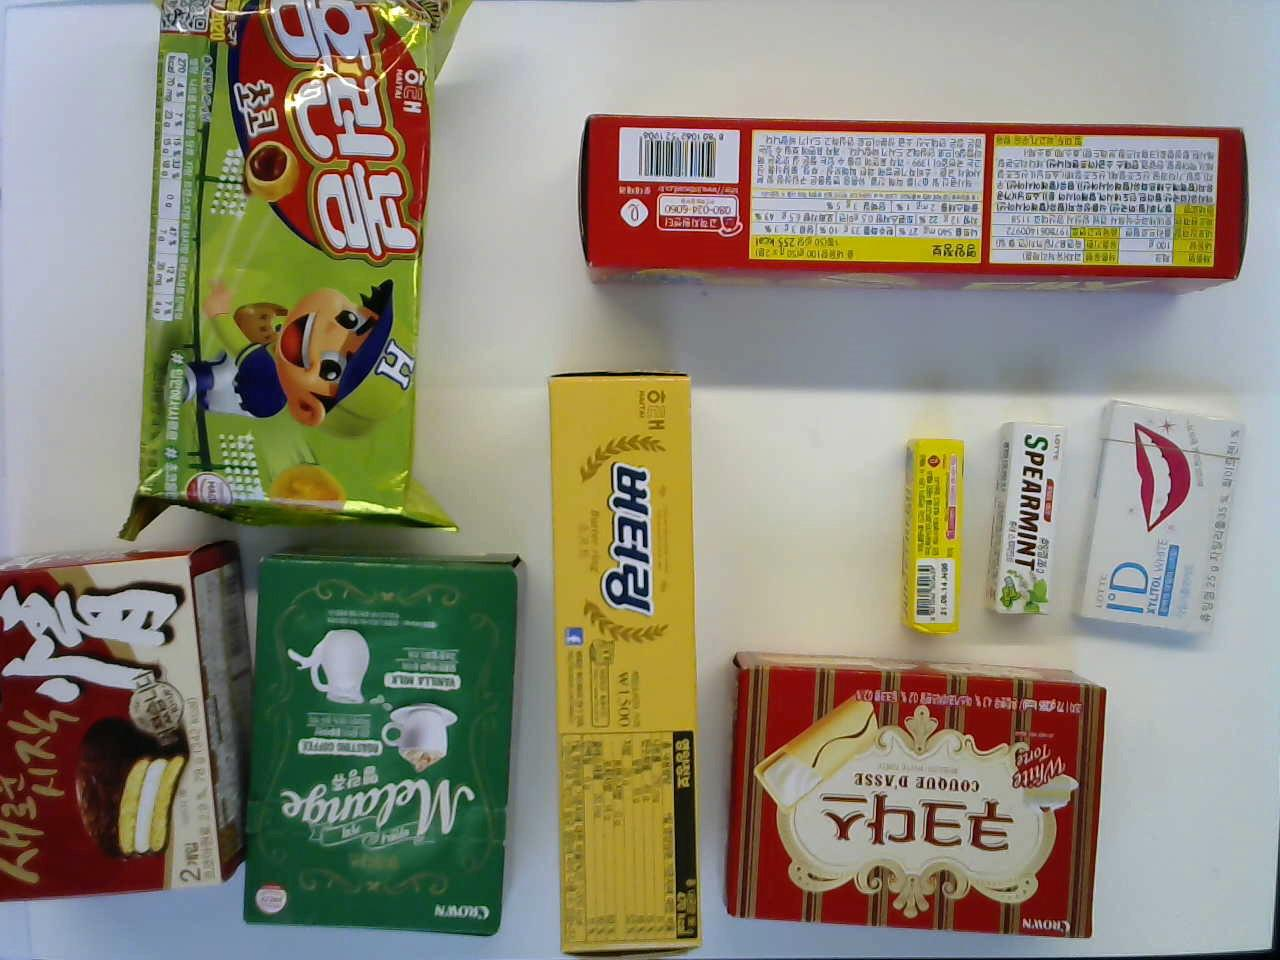ID_gum: (709, 659, 1112, 929), (1072, 396, 1250, 631)
buttering: (549, 365, 701, 951)
chocopie: (0, 536, 254, 921)
couque_coffee: (241, 548, 529, 940)
couque_white: (709, 659, 1112, 929)
homerunball: (151, 0, 414, 522)
juicyfresh: (900, 435, 968, 631)
spearmint: (973, 419, 1072, 625)
zec: (573, 113, 1251, 285)
